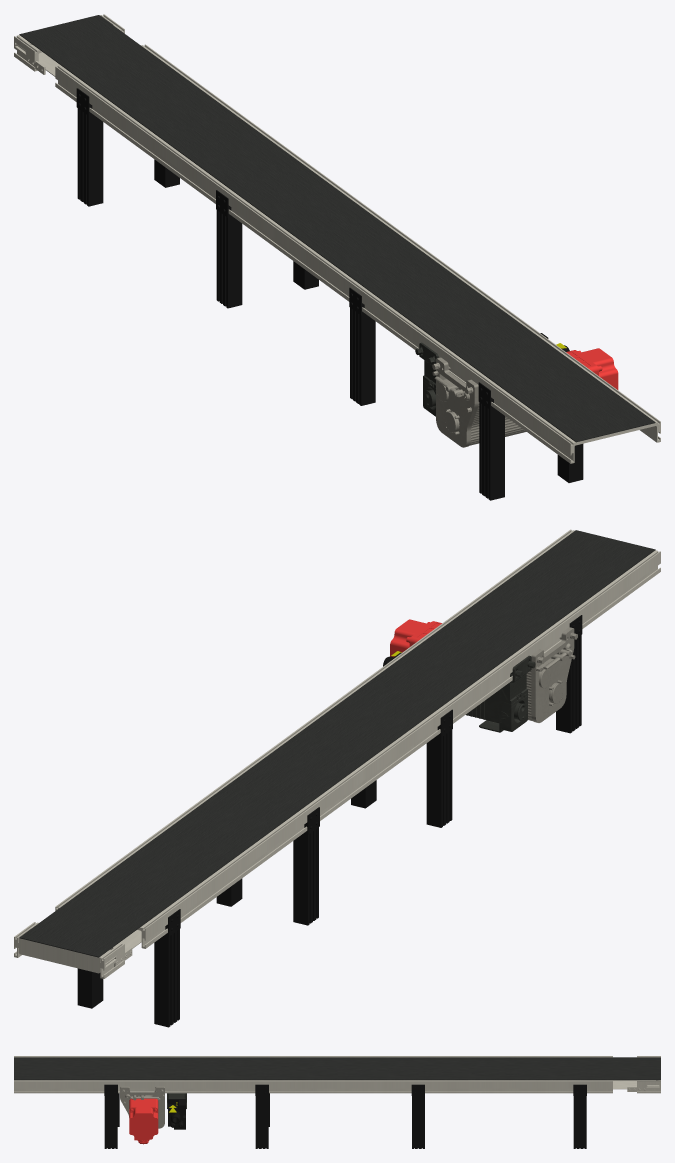
File: Conveyor.glb
3 views of the same model, one above another, from view 1: azimuth 30°, elevation 25°; view 2: azimuth 150°, elevation 25°; view 3: azimuth 270°, elevation 25° (orthographic). The views are drawn at different scales.
Visible parts, largest first — view 1: belt, color-6[5], color-44[2].001, color-7, Copy of Unnamed Node 7, Copy of Unnamed Node 7.001, color-7[1], color-44[6].002, color-6, Copy of Copy of Unnamed Node 8; view 2: belt, color-6[5], color-44[2].001, color-7[1], color-7, Copy of Unnamed Node 7, color-6, color-44[9].001, Copy of Unnamed Node 7.001, color-44[6].002, color-7[3]; view 3: belt, color-6[5], color-44[6].002, Copy of Copy of Unnamed Node 8, Copy of Unnamed Node 8, color-7[3], color-7[2], color-44[2].001, color-44[10].002, color-6, color-6[1].
Boxes of the visible parts, bbox=[...] form: belt: bbox=[19, 15, 655, 442]; color-6[5]: bbox=[55, 44, 660, 463]; color-44[2].001: bbox=[432, 357, 526, 447]; color-7: bbox=[76, 88, 103, 206]; Copy of Unnamed Node 7: bbox=[216, 190, 242, 308]; Copy of Unnamed Node 7.001: bbox=[478, 382, 504, 500]; color-7[1]: bbox=[349, 287, 375, 405]; color-44[6].002: bbox=[566, 348, 618, 389]; color-6: bbox=[14, 14, 124, 74]; Copy of Copy of Unnamed Node 8: bbox=[557, 444, 583, 482]; belt: bbox=[19, 530, 655, 957]; color-6[5]: bbox=[55, 529, 660, 948]; color-44[2].001: bbox=[526, 627, 577, 722]; color-7[1]: bbox=[426, 709, 452, 827]; color-7: bbox=[154, 909, 180, 1027]; Copy of Unnamed Node 7: bbox=[293, 807, 319, 925]; color-6: bbox=[14, 922, 132, 978]; color-44[9].001: bbox=[466, 673, 527, 731]; Copy of Unnamed Node 7.001: bbox=[556, 615, 582, 733]; color-44[6].002: bbox=[390, 619, 441, 657]; color-7[3]: bbox=[77, 968, 103, 1008]; belt: bbox=[14, 1057, 660, 1080]; color-6[5]: bbox=[14, 1056, 612, 1093]; color-44[6].002: bbox=[129, 1098, 158, 1144]; Copy of Copy of Unnamed Node 8: bbox=[104, 1084, 117, 1148]; Copy of Unnamed Node 8: bbox=[255, 1084, 268, 1148]; color-7[3]: bbox=[573, 1084, 586, 1148]; color-7[2]: bbox=[411, 1084, 424, 1148]; color-44[2].001: bbox=[120, 1086, 164, 1128]; color-44[10].002: bbox=[168, 1099, 185, 1129]; color-6: bbox=[627, 1056, 660, 1093]; color-6[1]: bbox=[613, 1080, 655, 1089].
Size of the model in its own units: 0.333 by 0.23 by 2.
11 materials, 4 textured.
